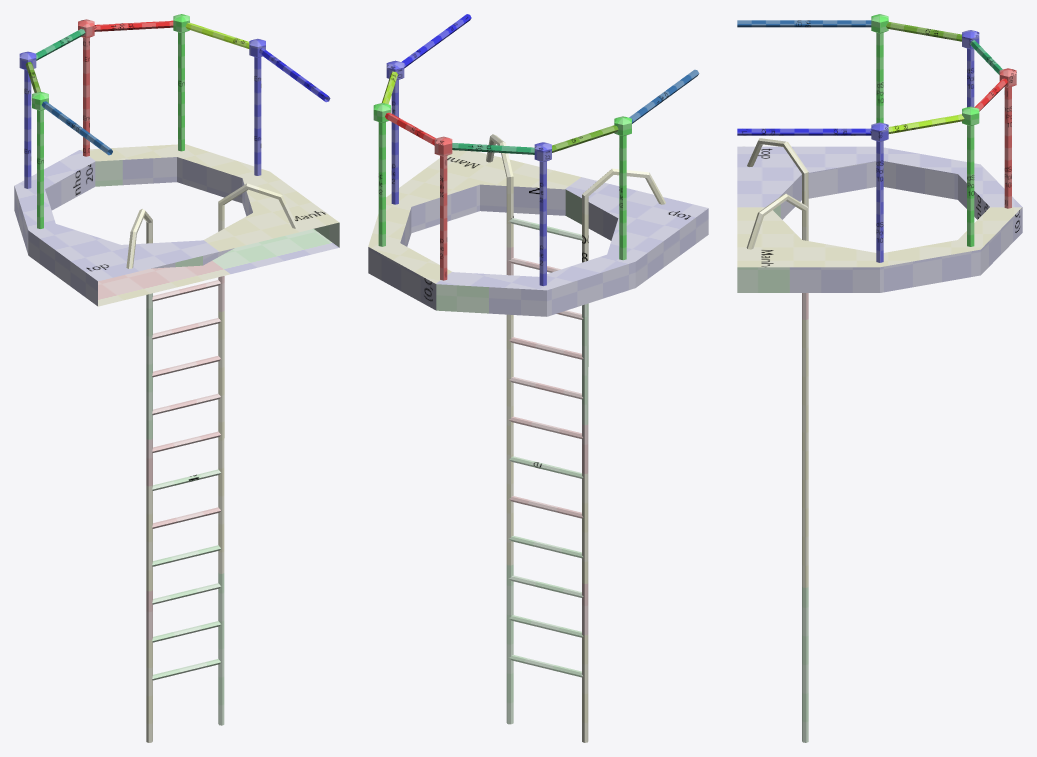
Rendered from bridge_end_manhole.fbx.
3 views of the same model, side by side, from view 1: azimuth 30°, elevation 25°; view 2: azimuth 150°, elevation 25°; view 3: azimuth 270°, elevation 25° (orthographic). The views are drawn at different scales.
Visible parts, largest first — view 1: bridge_end_manhole_floor, bridge_end_manhole_ladder, bridge_end_manhole; view 2: bridge_end_manhole_floor, bridge_end_manhole_ladder, bridge_end_manhole; view 3: bridge_end_manhole_floor, bridge_end_manhole, bridge_end_manhole_ladder.
Boxes of the visible parts, left/top/right/bottom form: bridge_end_manhole_floor: left=14, top=144, right=339, bottom=306; bridge_end_manhole_ladder: left=126, top=183, right=298, bottom=742; bridge_end_manhole: left=19, top=14, right=330, bottom=228; bridge_end_manhole_floor: left=368, top=150, right=708, bottom=316; bridge_end_manhole_ladder: left=486, top=134, right=665, bottom=742; bridge_end_manhole: left=373, top=14, right=699, bottom=285; bridge_end_manhole_floor: left=737, top=146, right=1022, bottom=292; bridge_end_manhole: left=737, top=14, right=1016, bottom=262; bridge_end_manhole_ladder: left=746, top=138, right=808, bottom=742.
Bounding box in the file's own units: 200 × 506 × 200.
